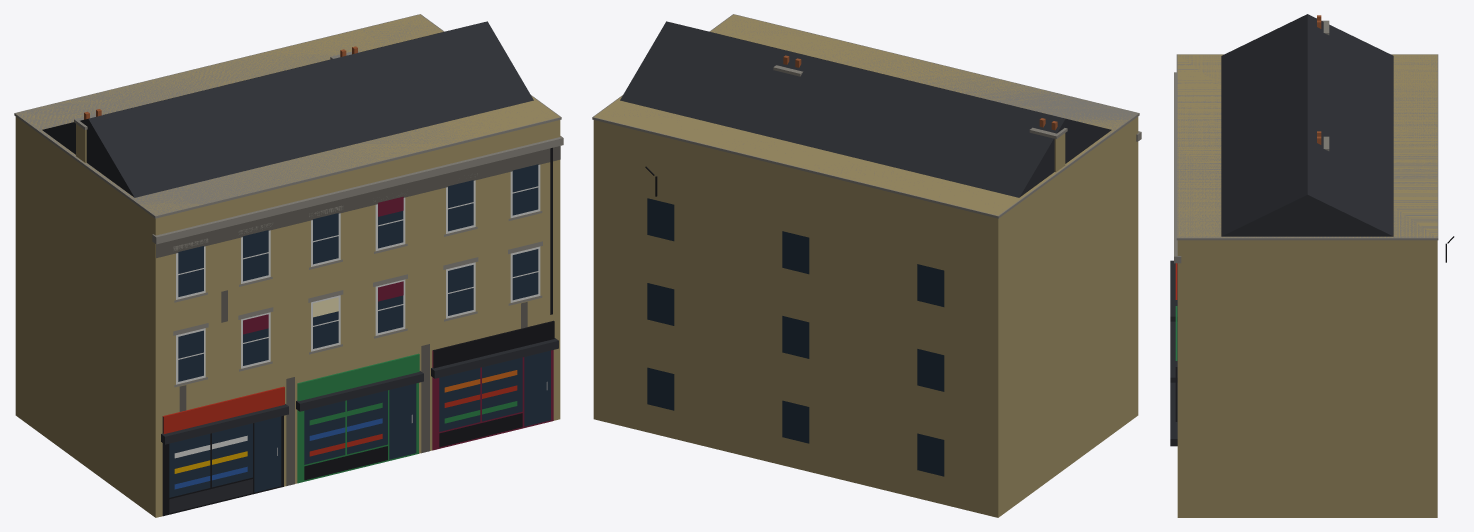
File: bld_rye-lane-terrace_a.glb
The picture shows the model from 3 angles, left to right: view 1: azimuth 30°, elevation 25°; view 2: azimuth 150°, elevation 25°; view 3: azimuth 270°, elevation 25°; orthographic projection. The views are drawn at different scales.
Visible parts, largest first — view 1: body; view 2: body; view 3: body.
Boxes of the visible parts, x1=… form: body: x1=14, y1=14, x2=563, y2=517; body: x1=592, y1=14, x2=1141, y2=517; body: x1=1170, y1=14, x2=1454, y2=517.
Bounding box in the file's own units: 15.1 × 12.3 × 10.01.
